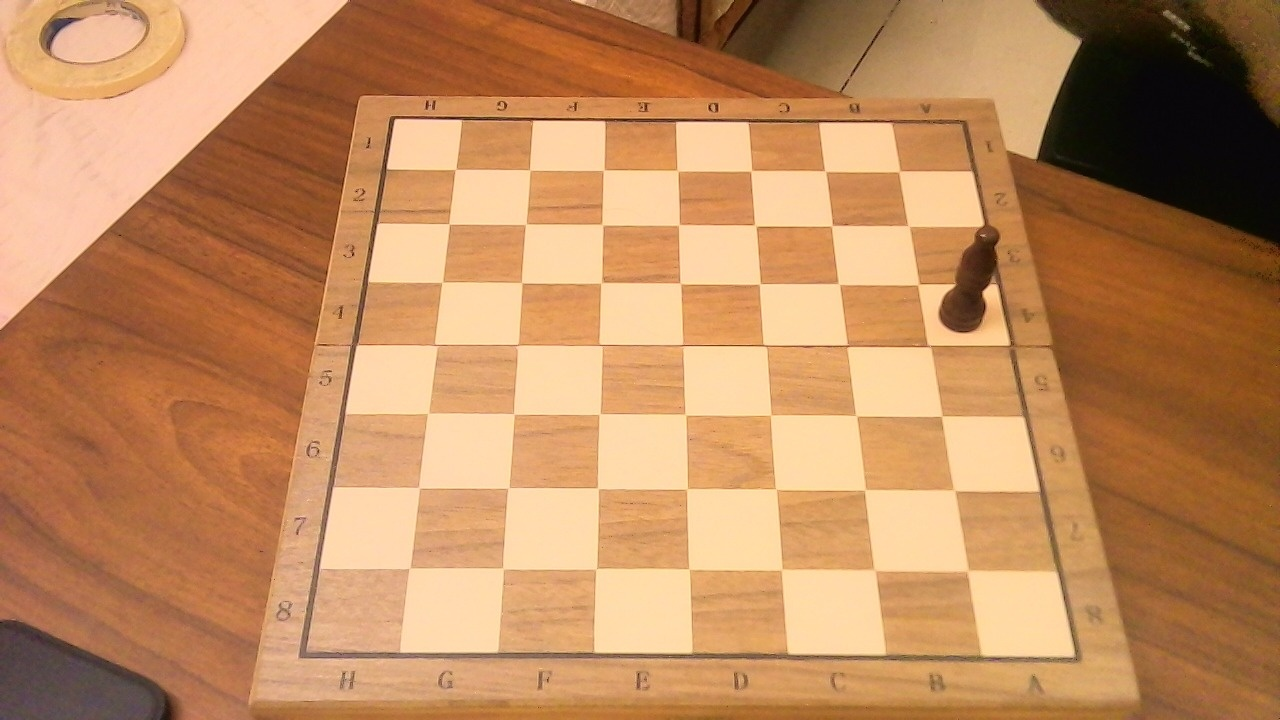b: (937, 212, 1011, 339)
